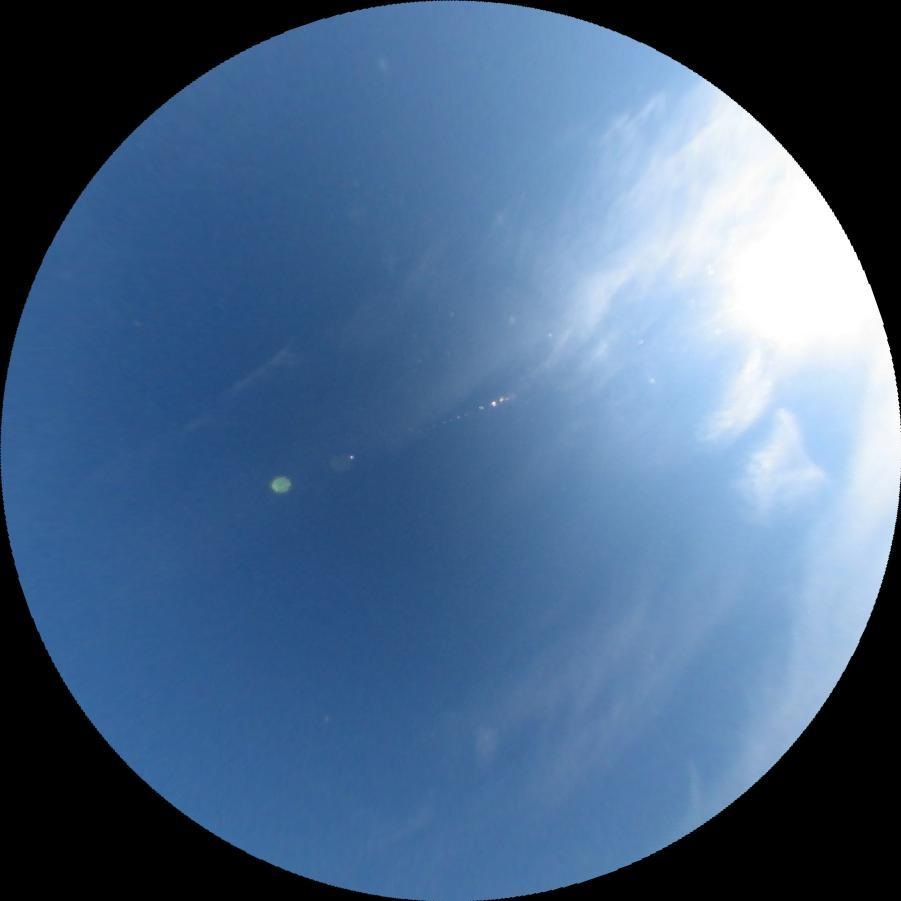contrail veryold: (306, 102, 799, 513), (675, 351, 834, 534)
